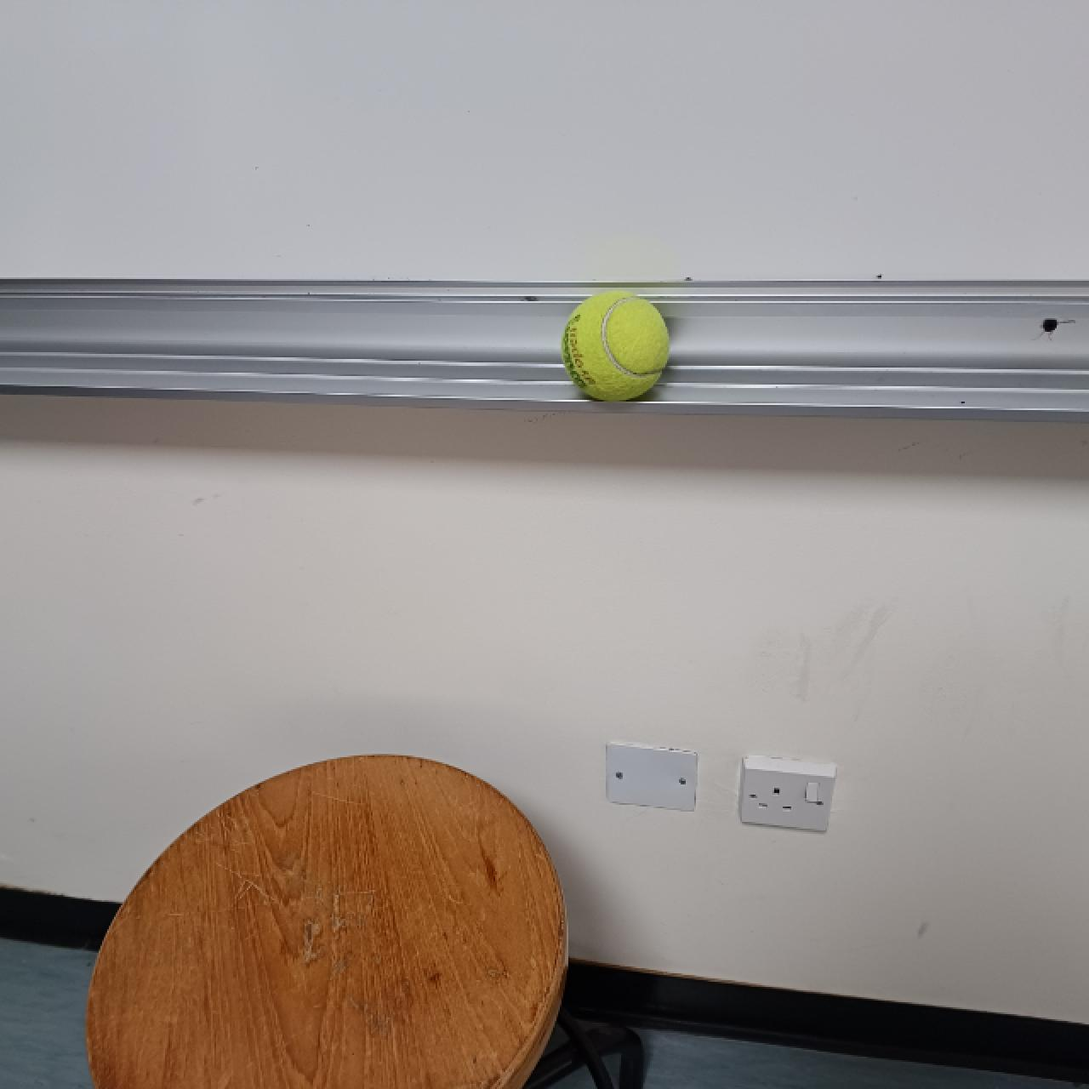tennis-ball: (558, 289, 671, 404)
